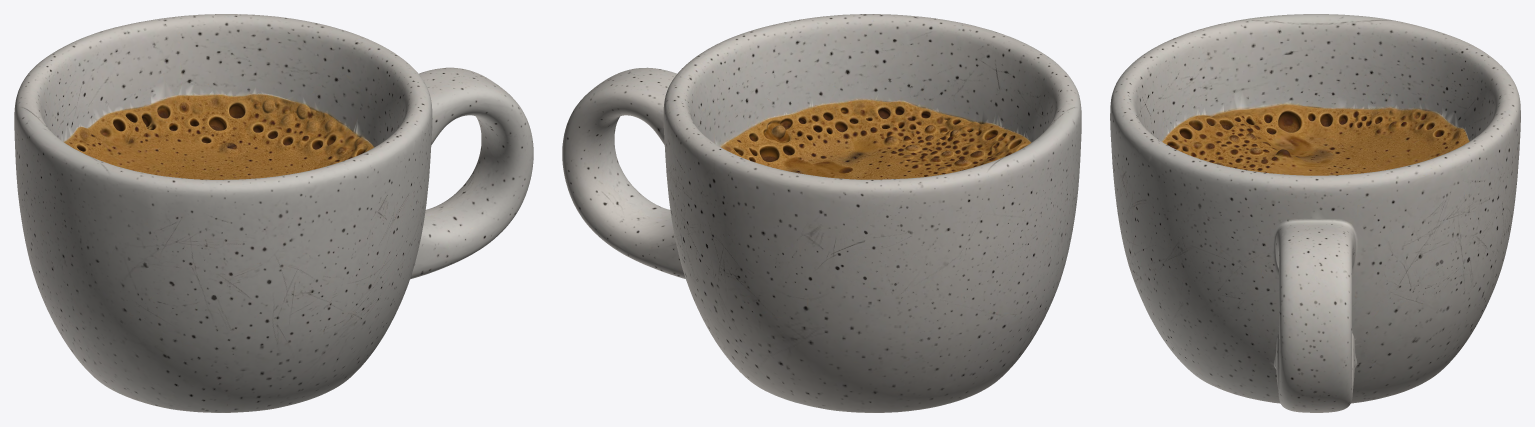
The model's file is coffee-mug.glb.
The picture shows the model from 3 angles, left to right: view 1: azimuth 30°, elevation 25°; view 2: azimuth 150°, elevation 25°; view 3: azimuth 270°, elevation 25°; orthographic projection.
Size of the model in its own units: 1.9 by 0.9758 by 1.43.
Materials: 1 (1 with a texture image).
